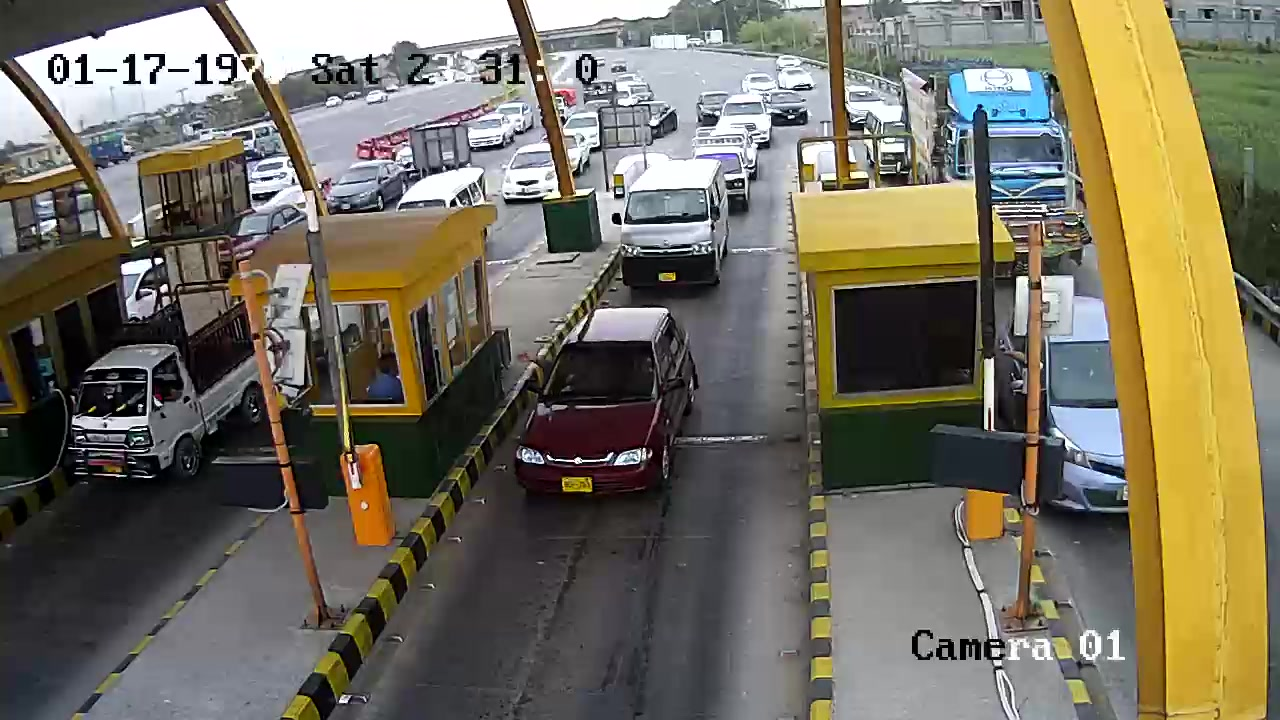F1: (515, 296, 727, 512)
F3: (623, 157, 735, 295)
